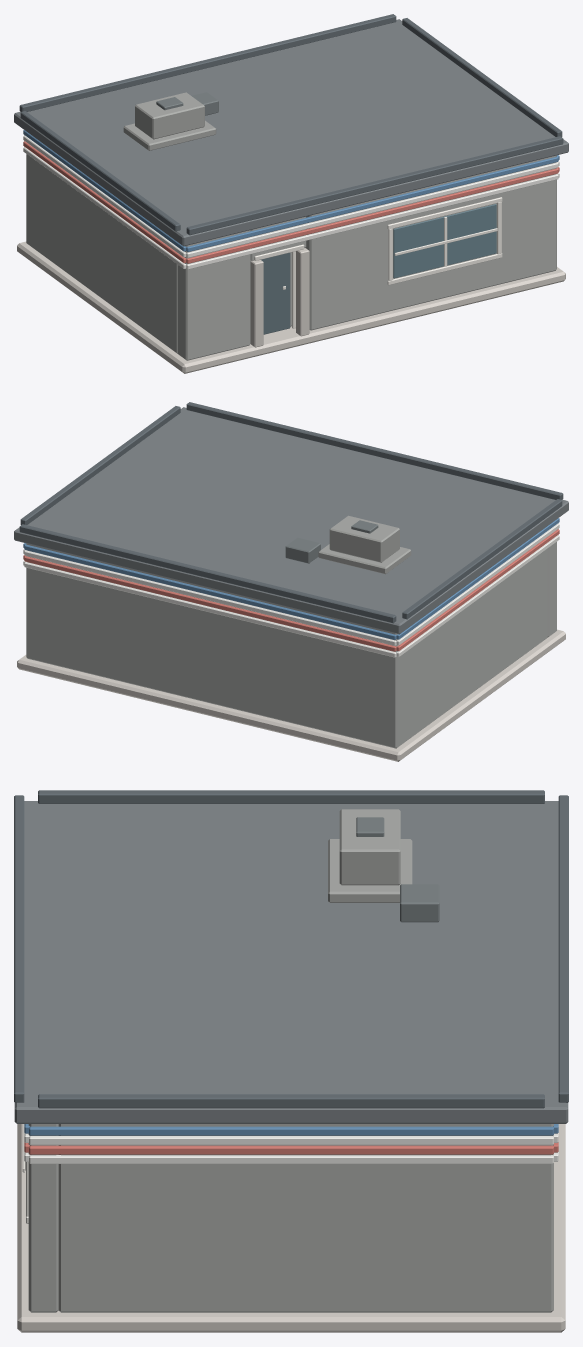
The model's file is FTF_Building_Canadian_Town_Store_LowPoly_12x10m.glb.
The picture shows the model from 3 angles, top to bottom: view 1: azimuth 30°, elevation 25°; view 2: azimuth 150°, elevation 25°; view 3: azimuth 270°, elevation 25°; orthographic projection. The views are drawn at different scales.
Visible parts, largest first — view 1: FTF_Building_Canadian_Town_Store_LowPoly_12x10m; view 2: FTF_Building_Canadian_Town_Store_LowPoly_12x10m; view 3: FTF_Building_Canadian_Town_Store_LowPoly_12x10m.
Boxes of the visible parts, left/top/right/bottom form: FTF_Building_Canadian_Town_Store_LowPoly_12x10m: left=14, top=14, right=568, bottom=373; FTF_Building_Canadian_Town_Store_LowPoly_12x10m: left=14, top=402, right=568, bottom=761; FTF_Building_Canadian_Town_Store_LowPoly_12x10m: left=14, top=790, right=568, bottom=1332.
Size of the model in its own units: 12.52 by 5.29 by 9.52.
